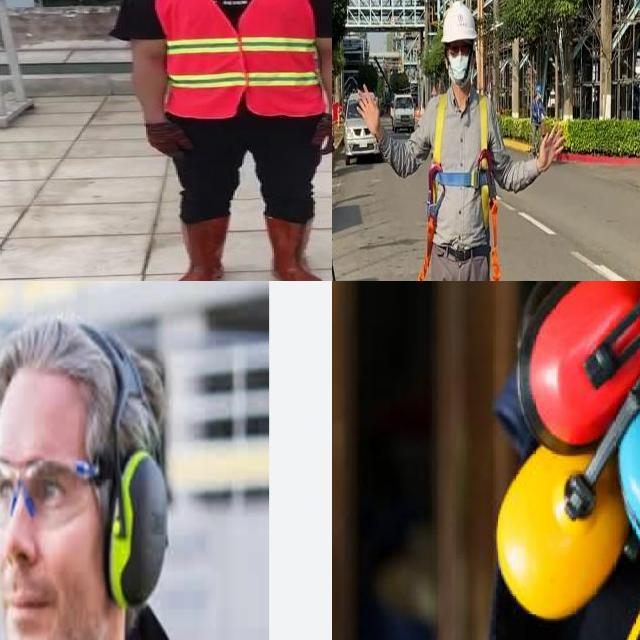Ear-protection: (0, 325, 174, 640), (474, 442, 631, 606), (475, 281, 640, 418)
Harness: (420, 94, 502, 281)
boots: (171, 219, 233, 281), (265, 218, 326, 281)
glasses: (0, 451, 103, 525)
person: (0, 314, 247, 640), (116, 0, 332, 281)
vest: (155, 0, 325, 117)
